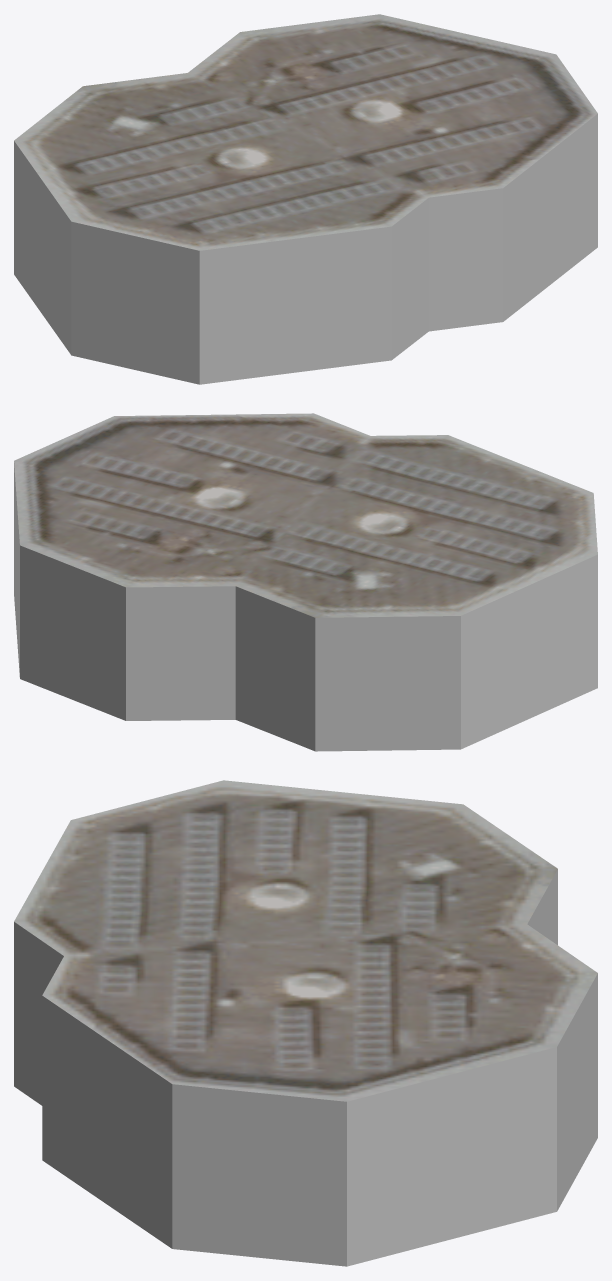
File: DEBW_0010007Txi4.gltf
3 renders of one model, top to bottom at view 1: azimuth 30°, elevation 25°; view 2: azimuth 150°, elevation 25°; view 3: azimuth 270°, elevation 25°, orthographic. The views are drawn at different scales.
Visible parts, largest first — view 1: Z_UP; view 2: Z_UP; view 3: Z_UP.
Part boxes in pixels (x1,y1,x2,y2): Z_UP: [14, 14, 597, 384]; Z_UP: [14, 413, 597, 751]; Z_UP: [14, 780, 597, 1266].
Size of the model in its own units: 37.2 by 8.9 by 28.56.
Materials: 2 (1 with a texture image).
